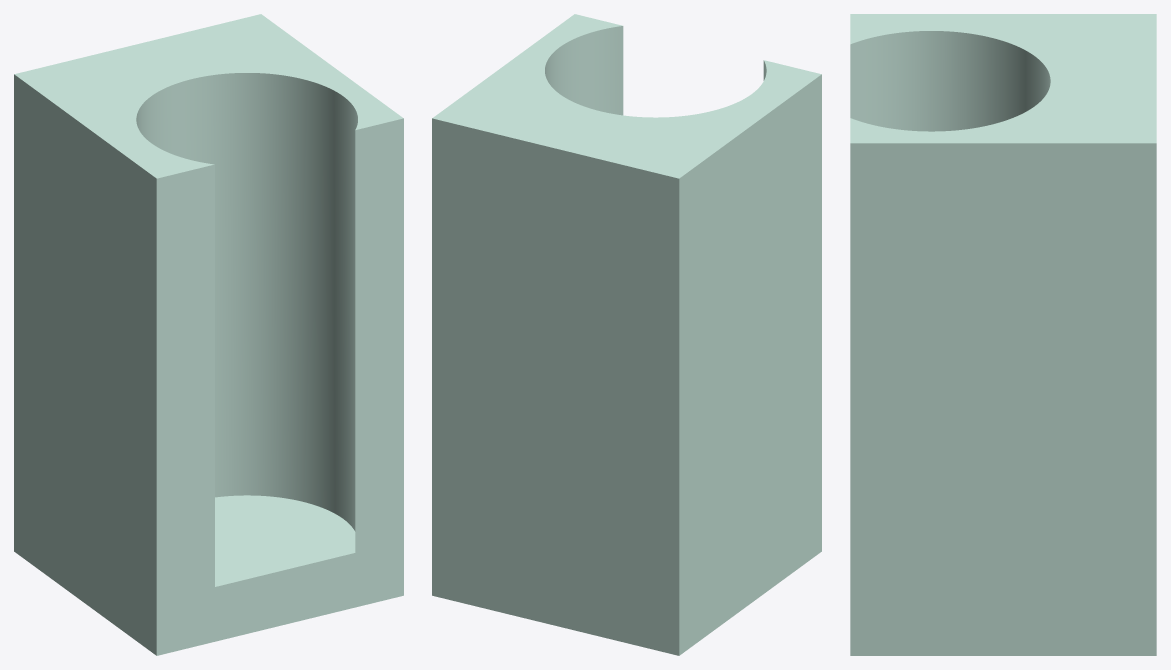
3 renders of one model, left to right at view 1: azimuth 30°, elevation 25°; view 2: azimuth 150°, elevation 25°; view 3: azimuth 270°, elevation 25°, orthographic. The views are drawn at different scales.
Parts seen in each view (by area): view 1: Renderer Node; view 2: Renderer Node; view 3: Renderer Node.
Part boxes in pixels (bbox=[...]): Renderer Node: bbox=[14, 14, 403, 655]; Renderer Node: bbox=[432, 14, 821, 655]; Renderer Node: bbox=[850, 14, 1156, 655].
Size of the model in its own units: 0.4063 by 0.75 by 0.4063.
